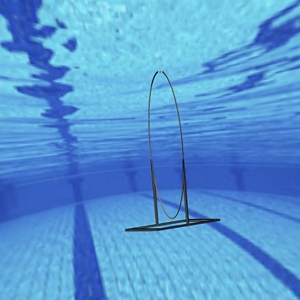circle: (124, 68, 223, 232)
